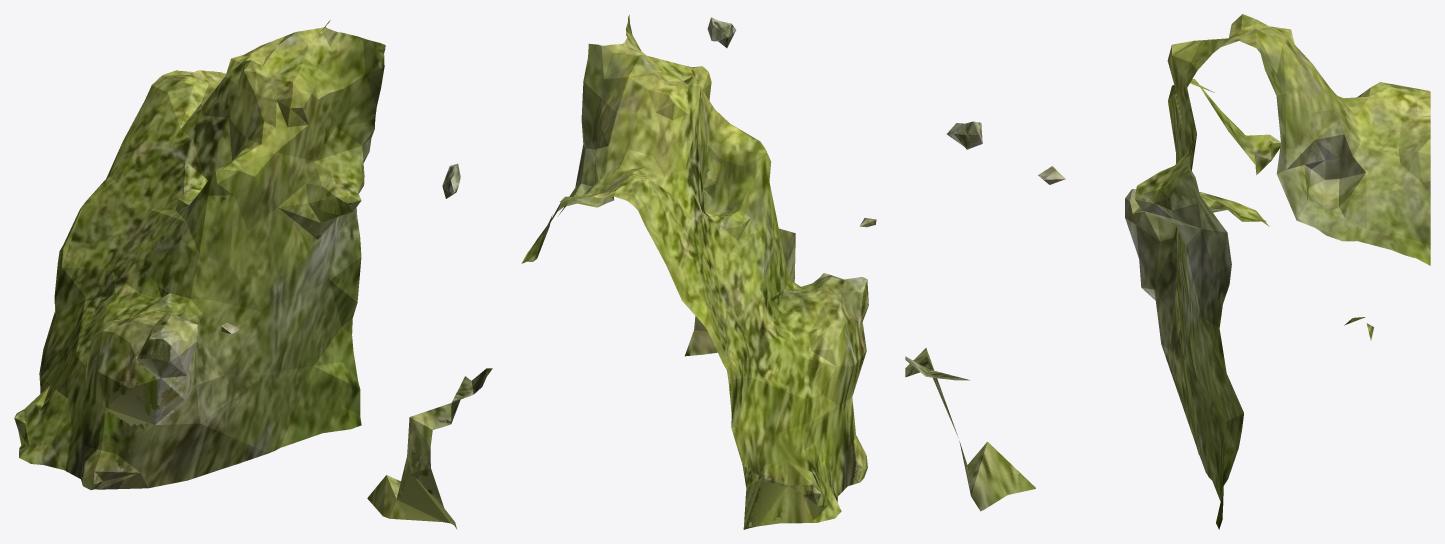
3 renders of one model, left to right at view 1: azimuth 30°, elevation 25°; view 2: azimuth 150°, elevation 25°; view 3: azimuth 270°, elevation 25°, orthographic. The views are drawn at different scales.
Bounding box in the file's own units: 2.25 × 2.95 × 2.95.
3 materials, 3 textured.
